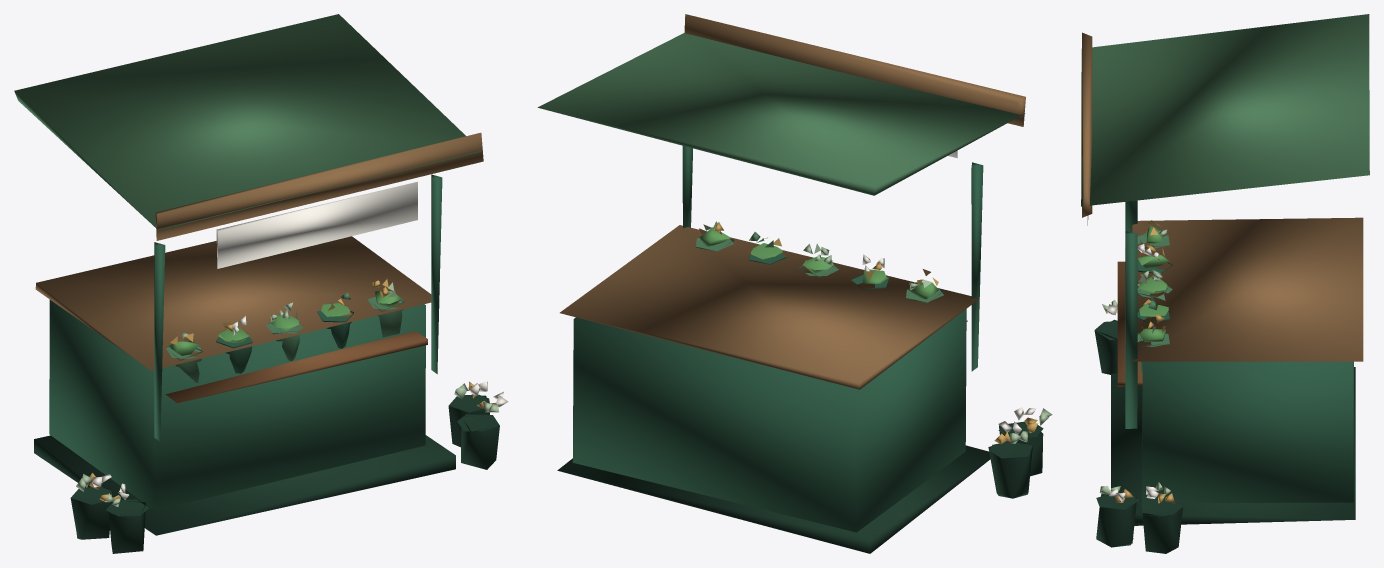
File: lod_flower_kiosk.glb
3 views of the same model, side by side, from view 1: azimuth 30°, elevation 25°; view 2: azimuth 150°, elevation 25°; view 3: azimuth 270°, elevation 25° (orthographic). The views are drawn at different scales.
Parts seen in each view (by area): view 1: flower_kiosk; view 2: flower_kiosk; view 3: flower_kiosk.
Boxes of the visible parts, x1,y1,x2,y2 form: flower_kiosk: (14, 14, 508, 553); flower_kiosk: (537, 14, 1052, 553); flower_kiosk: (1081, 14, 1369, 553).
Size of the model in its own units: 3.3 by 2.74 by 1.99.
